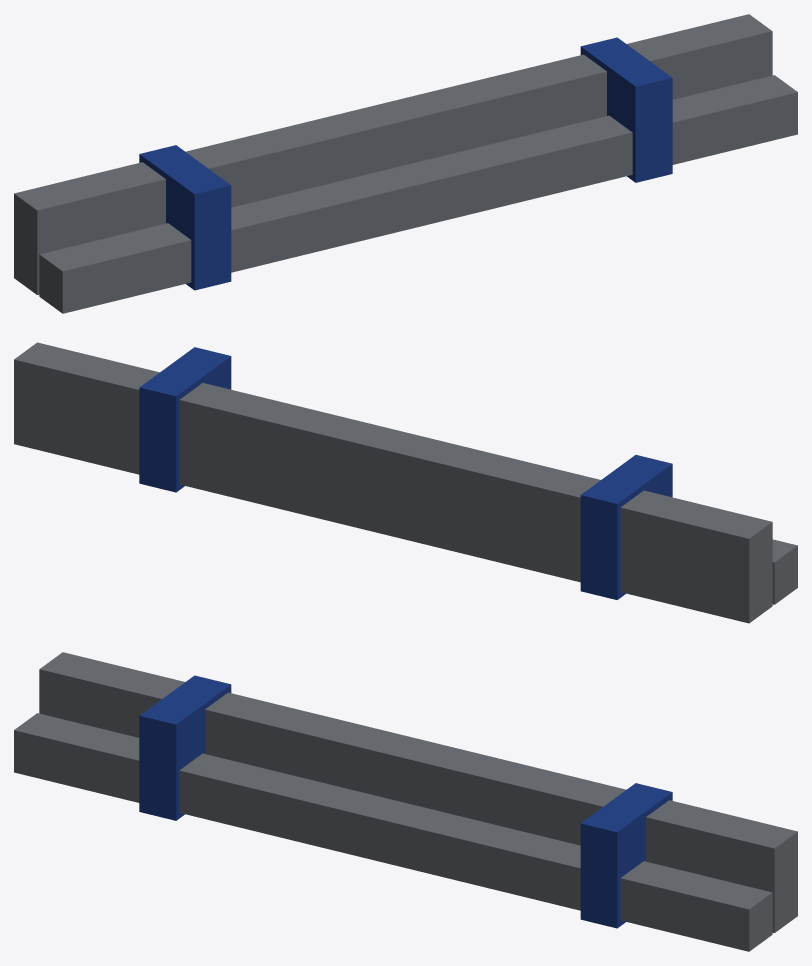
File: steel-bar.glb
The picture shows the model from 3 angles, top to bottom: view 1: azimuth 30°, elevation 25°; view 2: azimuth 150°, elevation 25°; view 3: azimuth 330°, elevation 25°; orthographic projection.
Visible parts, largest first — view 1: steel_bar; view 2: steel_bar; view 3: steel_bar.
Boxes of the visible parts, bbox=[...] form: steel_bar: bbox=[14, 14, 797, 313]; steel_bar: bbox=[14, 342, 797, 623]; steel_bar: bbox=[14, 652, 797, 951].
Bounding box in the file's own units: 0.4 × 0.05 × 0.052.
